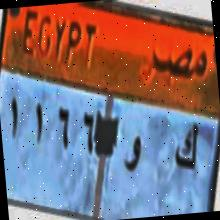1: (30, 99, 48, 153), (6, 94, 23, 149)
6: (57, 103, 73, 154), (82, 109, 96, 154)
kaaf: (172, 118, 202, 178)
waw: (122, 131, 144, 178)
